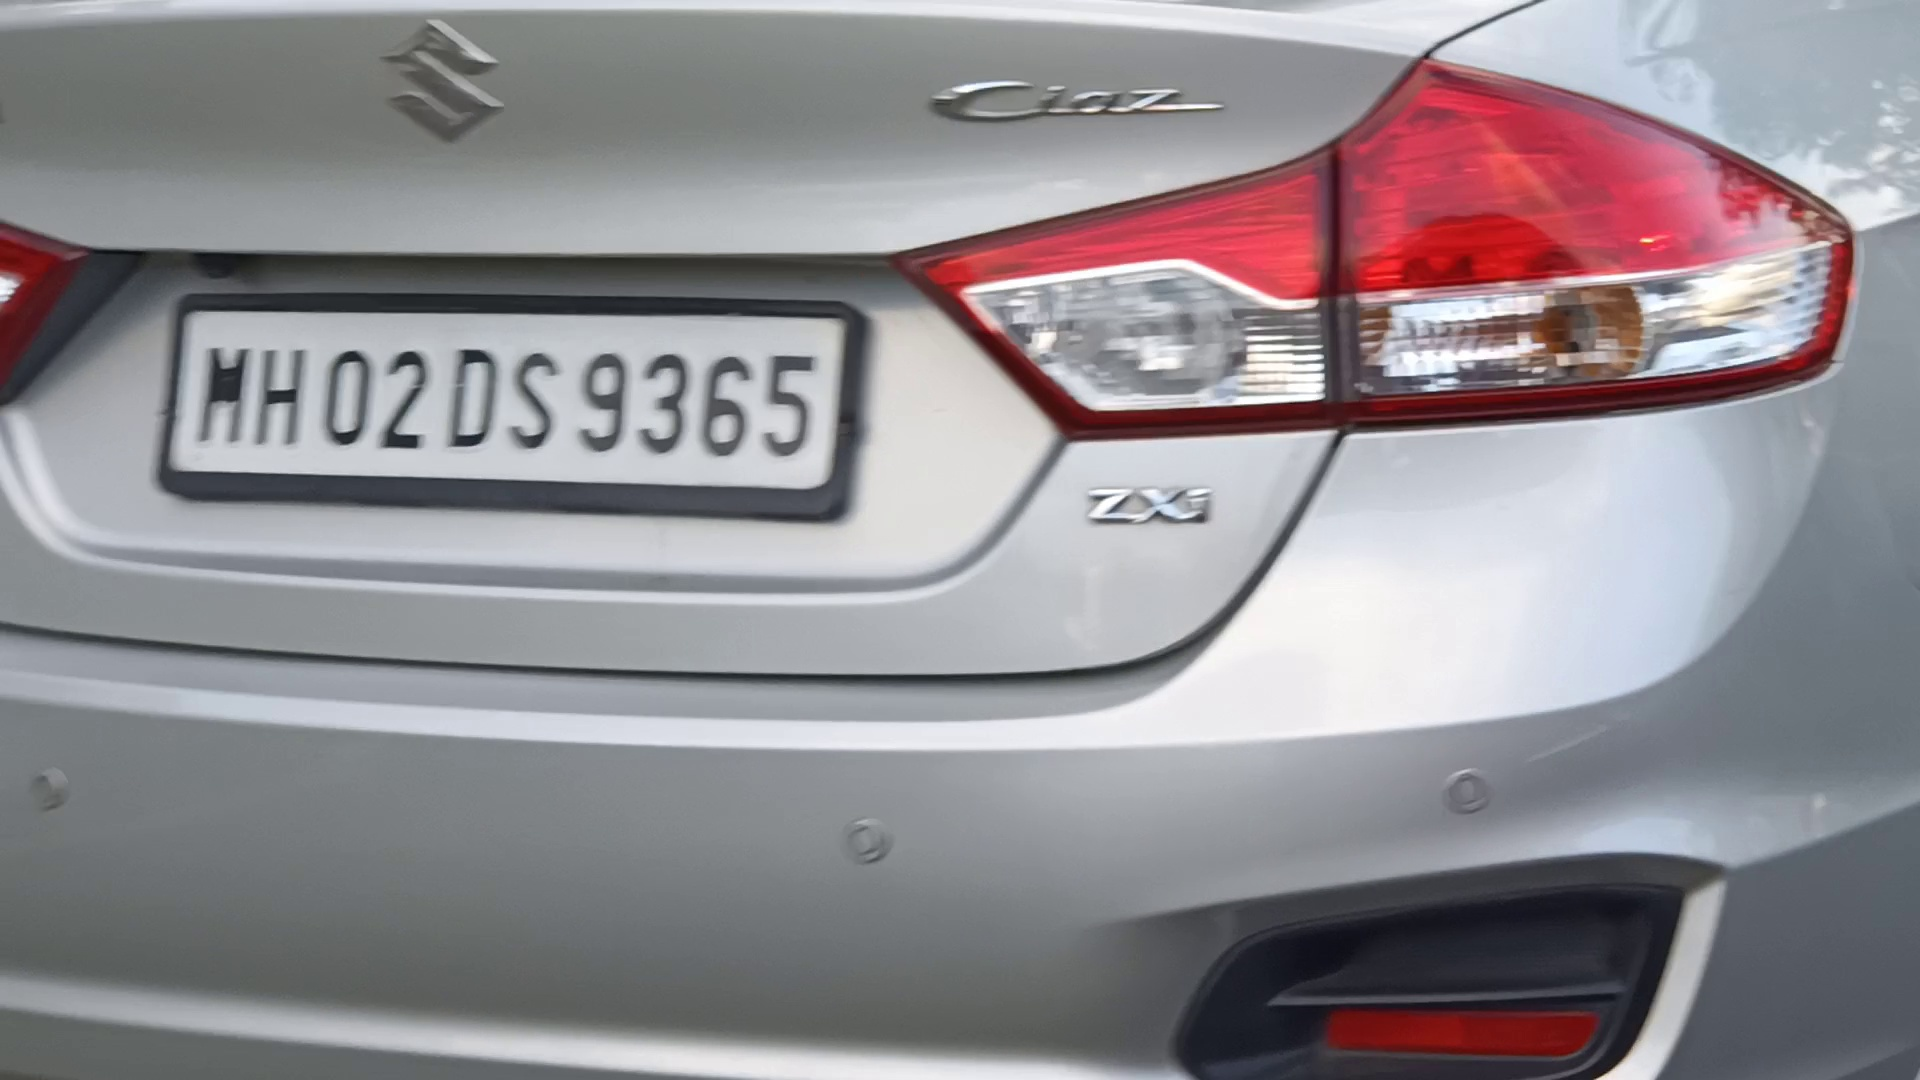MH02DS9365: (164, 303, 847, 496)
